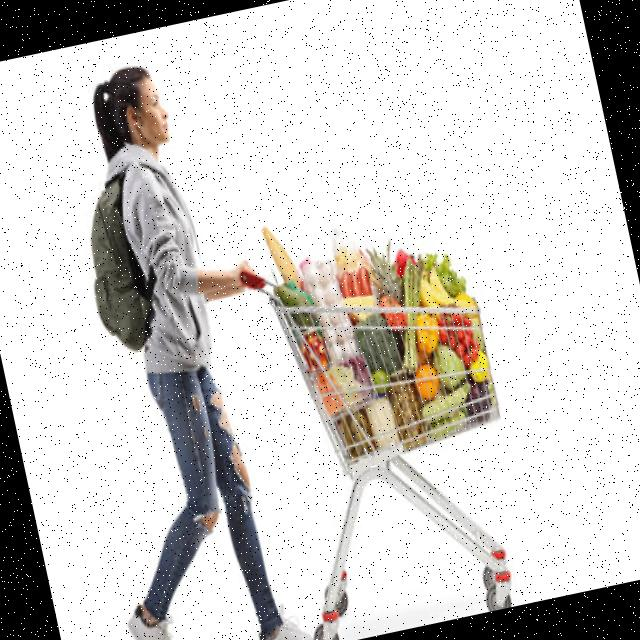Person: (13, 49, 331, 640)
